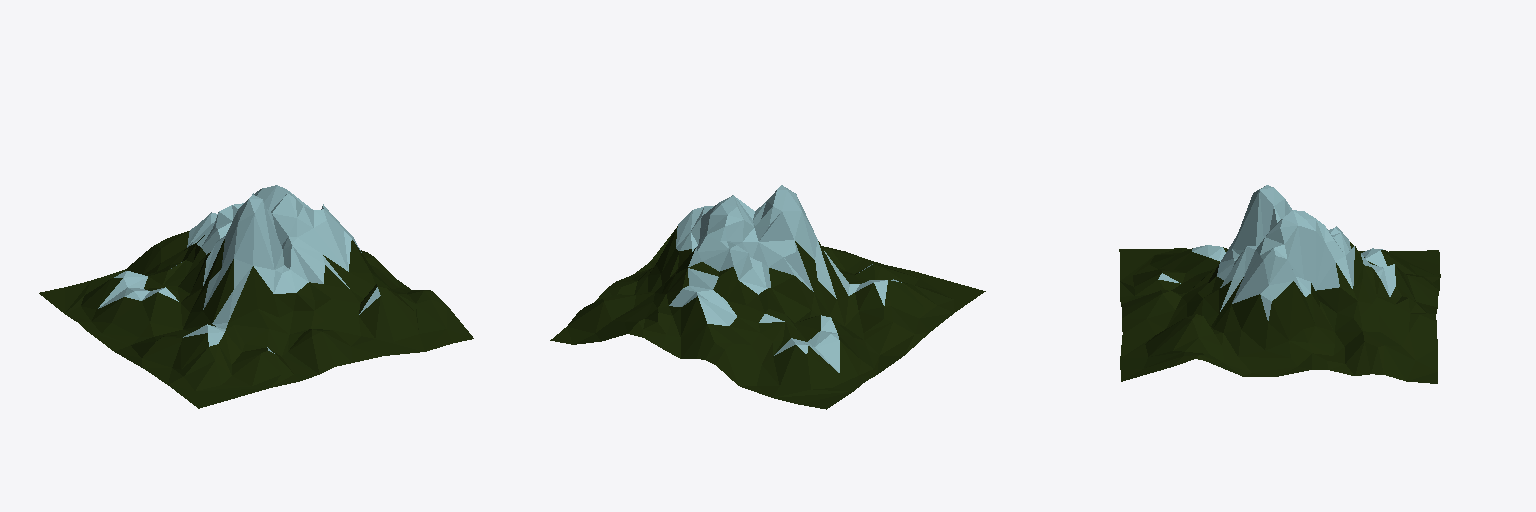
File: Gora.obj
3 views of the same model, side by side, from view 1: azimuth 30°, elevation 25°; view 2: azimuth 150°, elevation 25°; view 3: azimuth 270°, elevation 25° (orthographic).
Parts seen in each view (by area): view 1: Plane; view 2: Plane; view 3: Plane.
Part boxes in pixels (left/top/right/bottom): Plane: left=39, top=185, right=473, bottom=408; Plane: left=550, top=185, right=985, bottom=409; Plane: left=1119, top=185, right=1440, bottom=383.
Bounding box in the file's own units: 2.01 × 0.9052 × 2.01.